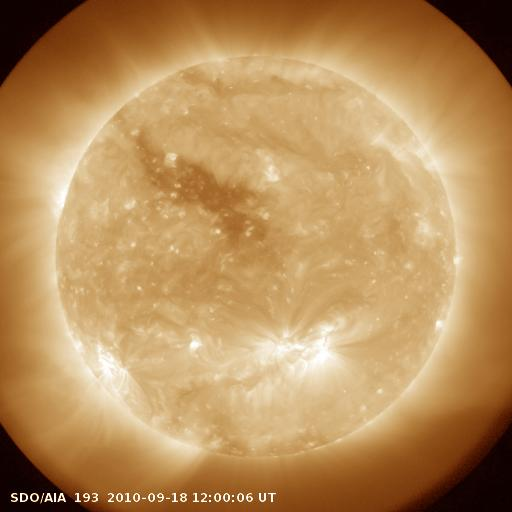coronal_hole: (133, 131, 263, 240)
